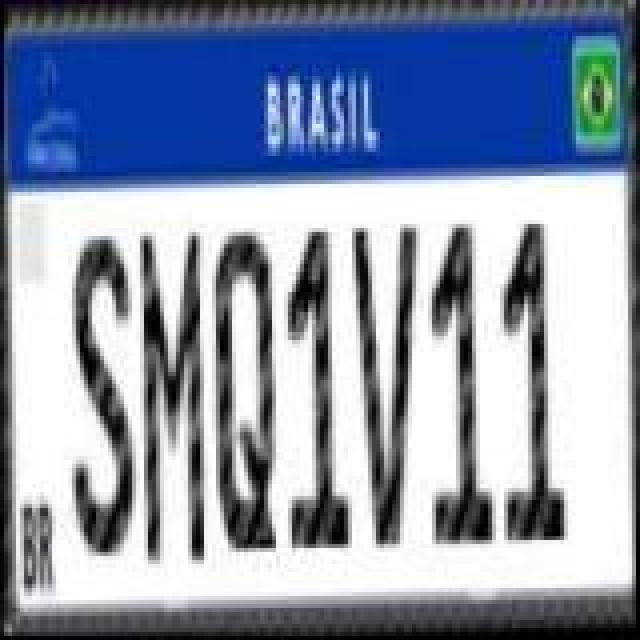1: (278, 222, 358, 554), (422, 214, 502, 546), (494, 216, 574, 548)
M: (136, 228, 212, 564)
Q: (208, 228, 284, 556)
S: (62, 226, 142, 562)
V: (350, 226, 430, 554)
